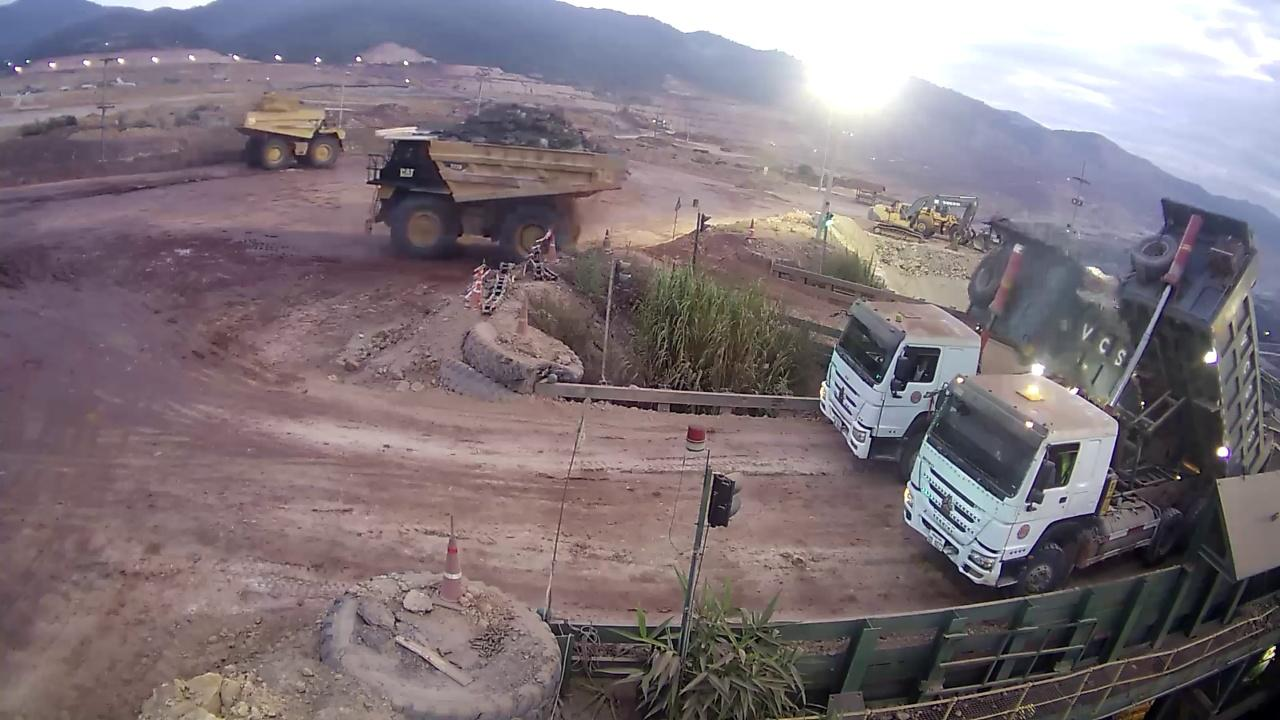full_load: (439, 103, 606, 150)
mining truck: (900, 195, 1274, 596)
mining_truck: (357, 100, 632, 269), (238, 89, 353, 173)
tail_number: (592, 162, 624, 187)
